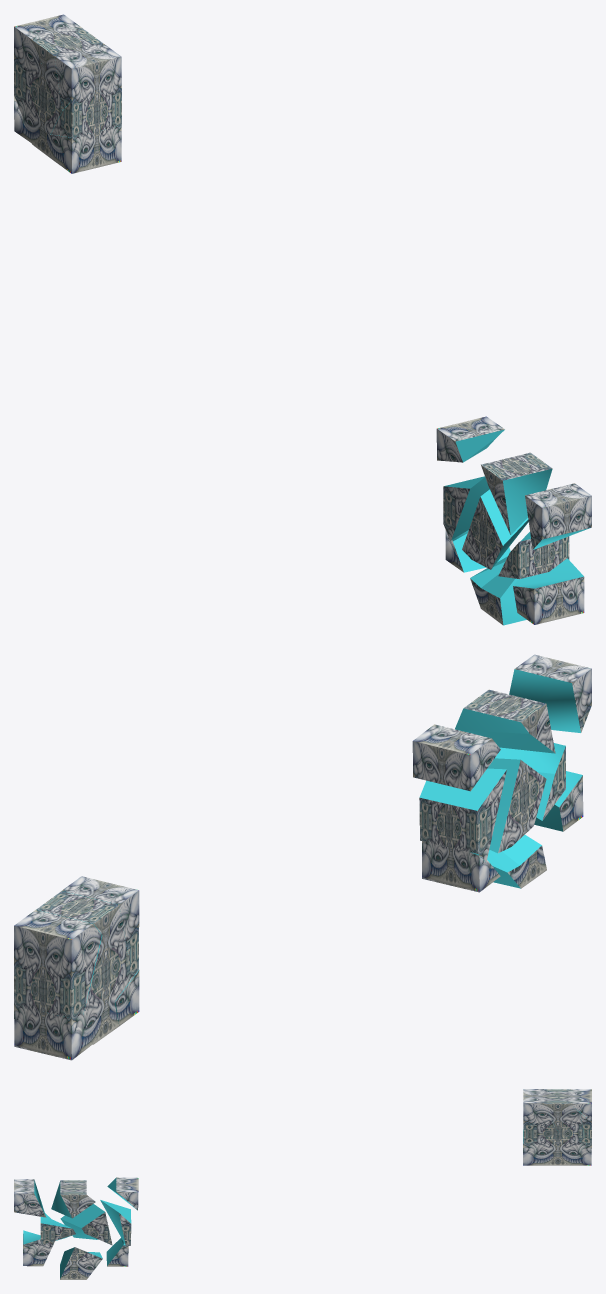
File: puzzleCube.fbx
3 views of the same model, one above another, from view 1: azimuth 30°, elevation 25°; view 2: azimuth 150°, elevation 25°; view 3: azimuth 270°, elevation 25° (orthographic). The views are drawn at different scales.
Parts seen in each view (by area): view 1: piece5.001, piece1.001, piece2.001, piece1, piece3.001, piece5, piece4, piece9.001, piece6.001, piece4.001, piece8.001, piece2 (+4 smaller); view 2: piece8.001, piece1.001, piece2.001, piece9.001, piece9, piece8, piece3.001, piece7, piece7.001, piece2, piece3, piece6.001 (+6 smaller); view 3: piece3.001, piece2.001, piece6.001, piece1.001, piece1, piece2, piece6, piece5.001, piece5, piece8.001, piece4.001, piece9.001 (+5 smaller).
Part boxes in pixels (x1=…): piece5.001: x1=513, y1=558, x2=584, y2=624; piece1.001: x1=525, y1=483, x2=591, y2=549; piece2.001: x1=481, y1=452, x2=552, y2=534; piece1: x1=54, y1=44, x2=121, y2=110; piece3.001: x1=462, y1=489, x2=528, y2=569; piece5: x1=50, y1=125, x2=121, y2=173; piece4: x1=51, y1=88, x2=121, y2=137; piece9.001: x1=436, y1=416, x2=504, y2=462; piece6.001: x1=470, y1=556, x2=526, y2=625; piece4.001: x1=498, y1=532, x2=569, y2=578; piece8.001: x1=443, y1=476, x2=489, y2=541; piece2: x1=32, y1=28, x2=103, y2=110; piece8.001: x1=419, y1=768, x2=506, y2=862; piece1.001: x1=509, y1=654, x2=591, y2=732; piece2.001: x1=455, y1=689, x2=555, y2=753; piece9.001: x1=412, y1=724, x2=500, y2=791; piece9: x1=14, y1=910, x2=101, y2=976; piece8: x1=14, y1=936, x2=101, y2=1027; piece3.001: x1=487, y1=758, x2=546, y2=853; piece7: x1=14, y1=1005, x2=92, y2=1060; piece7.001: x1=422, y1=841, x2=500, y2=892; piece2: x1=36, y1=891, x2=127, y2=954; piece3: x1=80, y1=935, x2=127, y2=1028; piece6.001: x1=487, y1=835, x2=546, y2=888; piece3.001: x1=60, y1=1204, x2=112, y2=1245; piece2.001: x1=51, y1=1180, x2=95, y2=1218; piece6.001: x1=60, y1=1247, x2=102, y2=1279; piece1.001: x1=14, y1=1179, x2=46, y2=1217; piece1: x1=523, y1=1089, x2=555, y2=1127; piece2: x1=543, y1=1089, x2=577, y2=1127; piece6: x1=543, y1=1133, x2=586, y2=1165; piece5.001: x1=23, y1=1230, x2=54, y2=1266; piece5: x1=523, y1=1130, x2=558, y2=1165; piece8.001: x1=100, y1=1200, x2=131, y2=1245; piece4.001: x1=40, y1=1213, x2=75, y2=1244; piece9.001: x1=107, y1=1177, x2=138, y2=1210.
Size of the model in its own units: 89.6 by 265 by 842.
